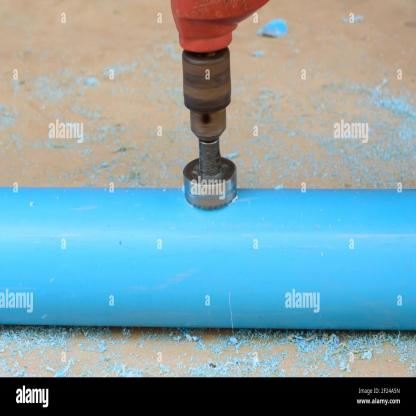PVC: (1, 187, 415, 332)
